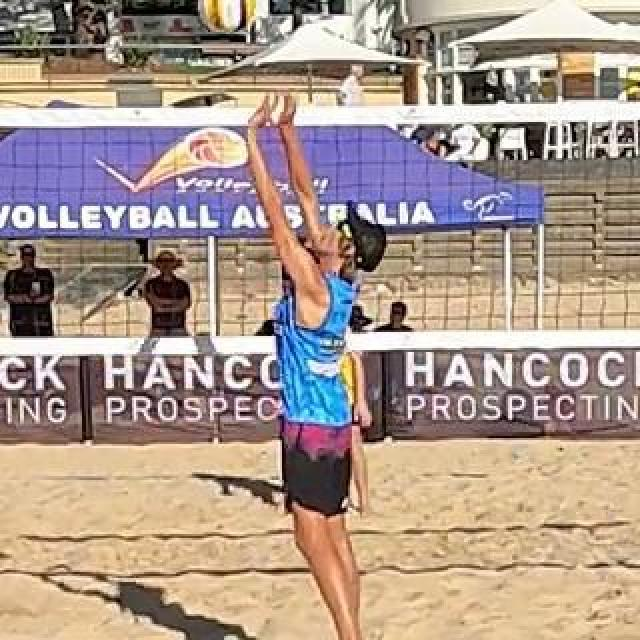volleyball: (198, 0, 256, 32)
